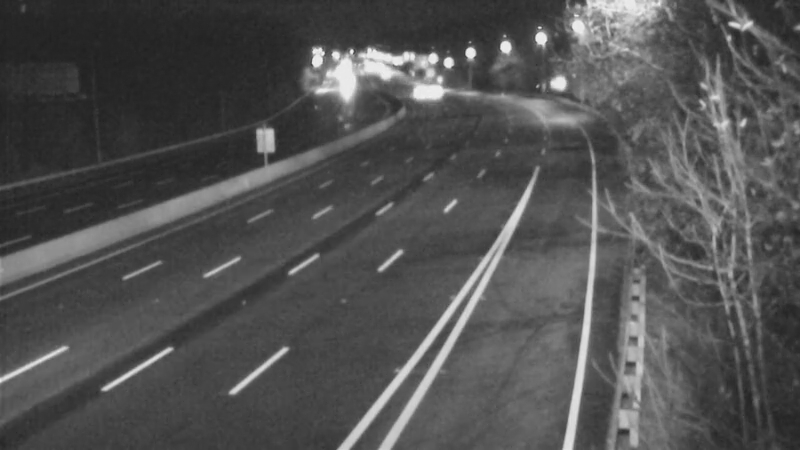vehicle: (407, 66, 457, 116), (393, 69, 443, 119)
